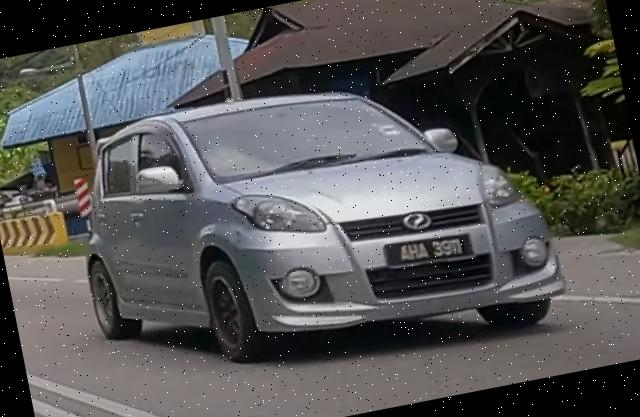License_Plate: (383, 227, 473, 274)
car: (58, 44, 574, 408)
